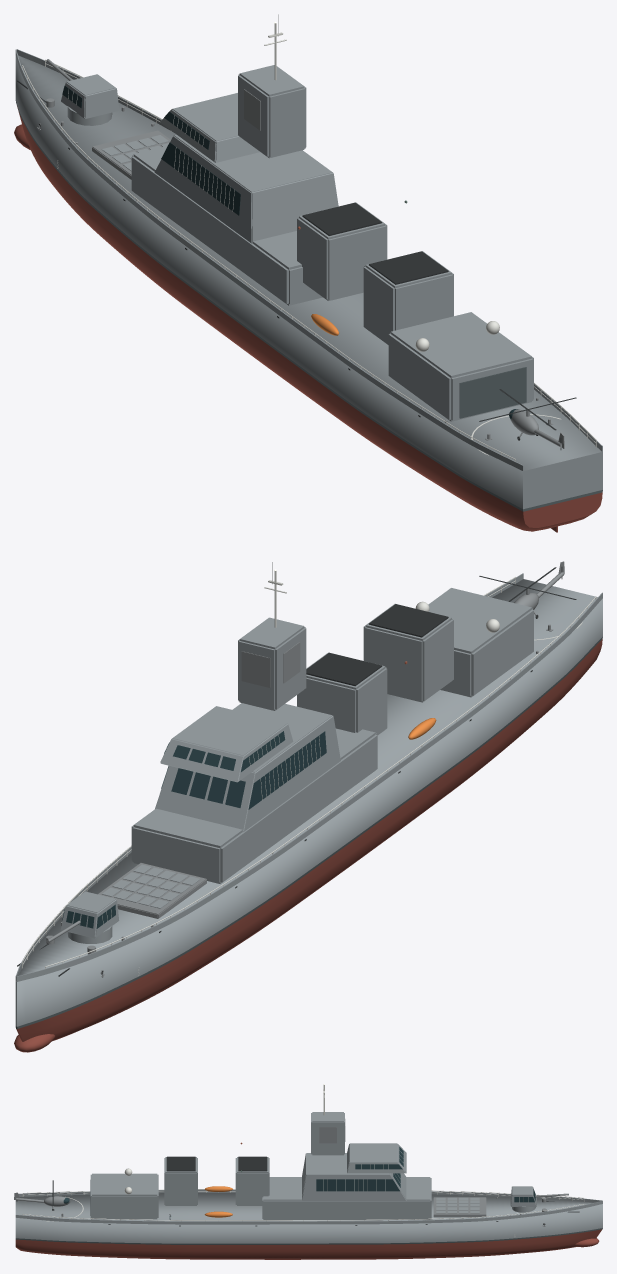
File: destroyer.glb
3 views of the same model, one above another, from view 1: azimuth 30°, elevation 25°; view 2: azimuth 150°, elevation 25°; view 3: azimuth 270°, elevation 25° (orthographic). The views are drawn at different scales.
Visible parts, largest first — view 1: hull, bottom, stripe, black, white, metal, window; view 2: hull, bottom, window, metal, black, white, stripe; view 3: hull, bottom, window, metal, white, stripe, black, orange.
Boxes of the visible parts, x1=… form: hull: x1=15, y1=49, x2=602, y2=509; bottom: x1=14, y1=106, x2=602, y2=532; stripe: x1=15, y1=100, x2=602, y2=511; black: x1=17, y1=80, x2=576, y2=449; white: x1=22, y1=23, x2=596, y2=461; metal: x1=37, y1=14, x2=564, y2=448; window: x1=62, y1=85, x2=517, y2=419; hull: x1=15, y1=573, x2=602, y2=1026; bottom: x1=14, y1=639, x2=602, y2=1052; window: x1=62, y1=731, x2=326, y2=928; metal: x1=46, y1=561, x2=564, y2=977; black: x1=17, y1=567, x2=576, y2=976; white: x1=22, y1=571, x2=596, y2=975; stripe: x1=15, y1=637, x2=602, y2=1028; hull: x1=15, y1=1112, x2=602, y2=1243; bottom: x1=15, y1=1229, x2=602, y2=1259; window: x1=63, y1=1147, x2=535, y2=1203; metal: x1=14, y1=1119, x2=568, y2=1226; white: x1=22, y1=1085, x2=584, y2=1237; stripe: x1=15, y1=1180, x2=602, y2=1244; black: x1=16, y1=1156, x2=579, y2=1226; orange: x1=204, y1=1186, x2=232, y2=1217.
Bounding box in the file's own units: 20.04 × 49.6 × 156.
